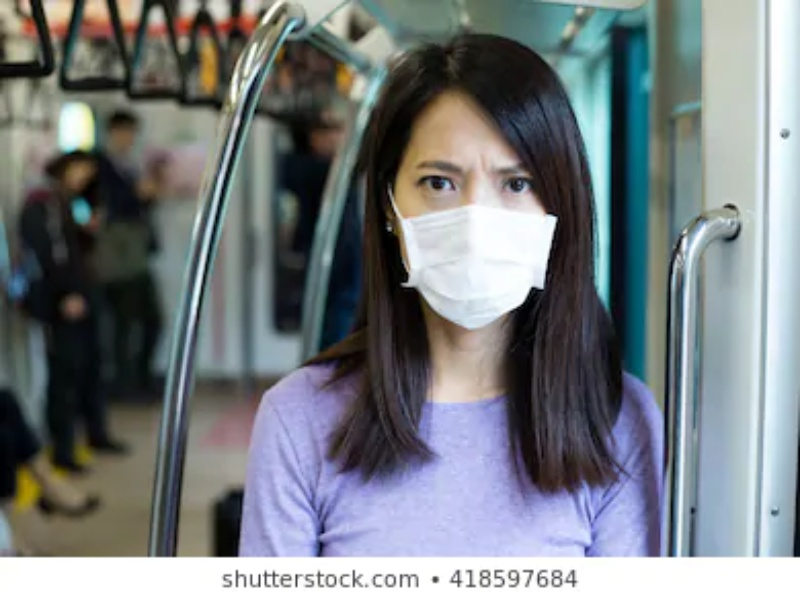ManaoArotava: (356, 57, 574, 324)
